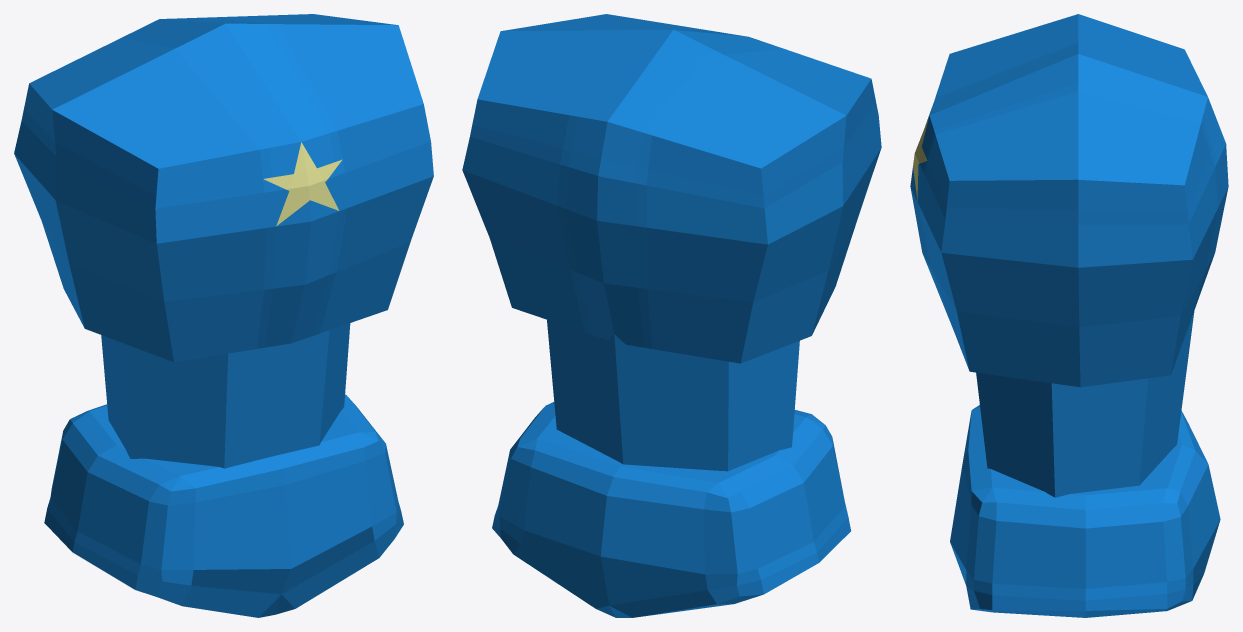
File: BODY.fbx
3 views of the same model, side by side, from view 1: azimuth 30°, elevation 25°; view 2: azimuth 150°, elevation 25°; view 3: azimuth 270°, elevation 25° (orthographic).
Parts seen in each view (by area): view 1: BODY; view 2: BODY; view 3: BODY.
Boxes of the visible parts, x1,y1,x2,y2 form: BODY: (14, 14, 433, 617); BODY: (462, 14, 881, 617); BODY: (910, 14, 1228, 617).
Size of the model in its own units: 0.6557 by 1.01 by 0.5319.
